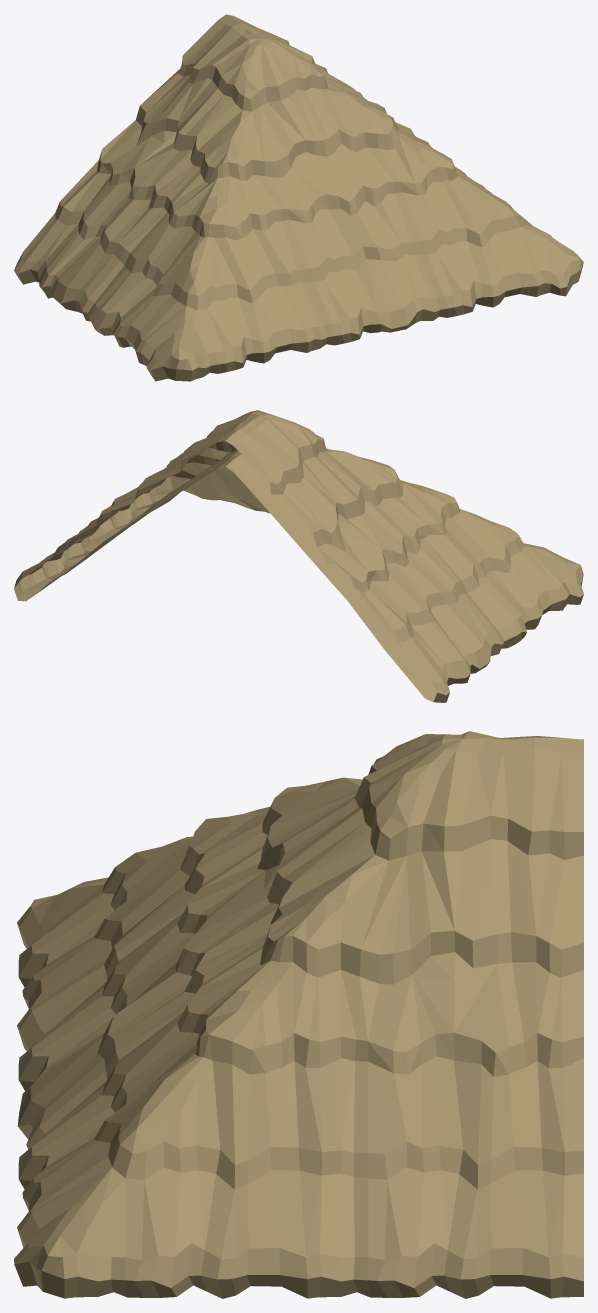
Rendered from rpgpp_ag_roof_02_9x4x3_end_02.fbx.
The picture shows the model from 3 angles, top to bottom: view 1: azimuth 30°, elevation 25°; view 2: azimuth 150°, elevation 25°; view 3: azimuth 270°, elevation 25°; orthographic projection. The views are drawn at different scales.
Visible parts, largest first — view 1: rpgpp_ag_roof_02_9x4x3_end_02; view 2: rpgpp_ag_roof_02_9x4x3_end_02; view 3: rpgpp_ag_roof_02_9x4x3_end_02.
Boxes of the visible parts, bbox=[...] form: rpgpp_ag_roof_02_9x4x3_end_02: bbox=[14, 14, 583, 381]; rpgpp_ag_roof_02_9x4x3_end_02: bbox=[14, 410, 583, 702]; rpgpp_ag_roof_02_9x4x3_end_02: bbox=[14, 731, 583, 1298].
Size of the model in its own units: 11.04 by 5.27 by 7.04.
